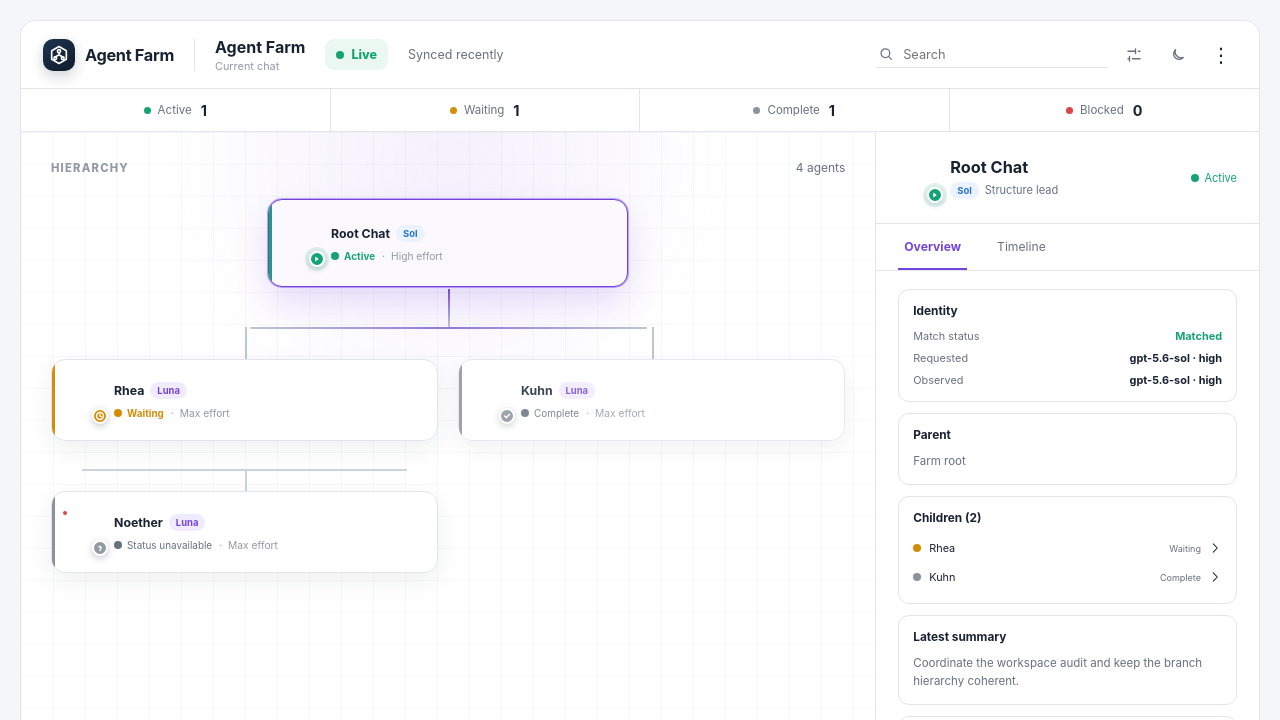
it: production public hierarchy › keeps identity, cost truth, read-only timeline, and privacy boundaries visible
Expected: the text "Matched" is shown, [1175,329,1222,343]
Click the tab "Timeline": [1021, 247] box [991,224,1052,270]
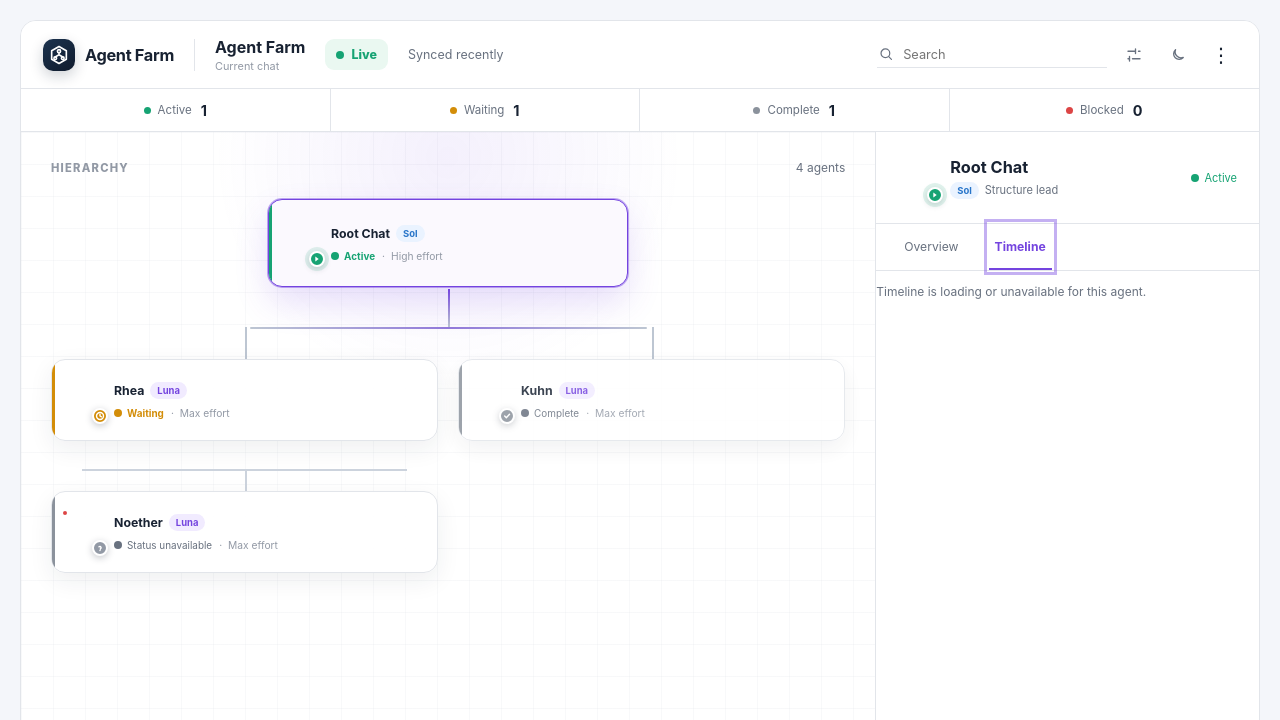
Expected: the text "Timeline is loading or unavailable for this agent." is shown, [876,284,1146,299]
